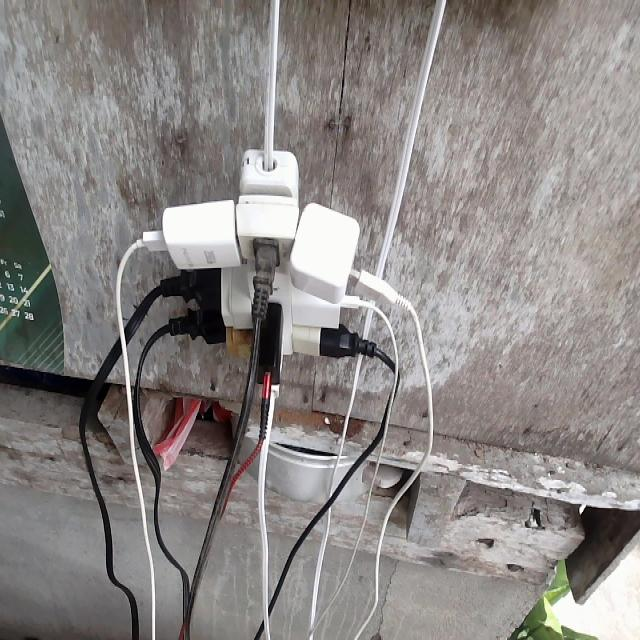-: (148, 136, 374, 404)
